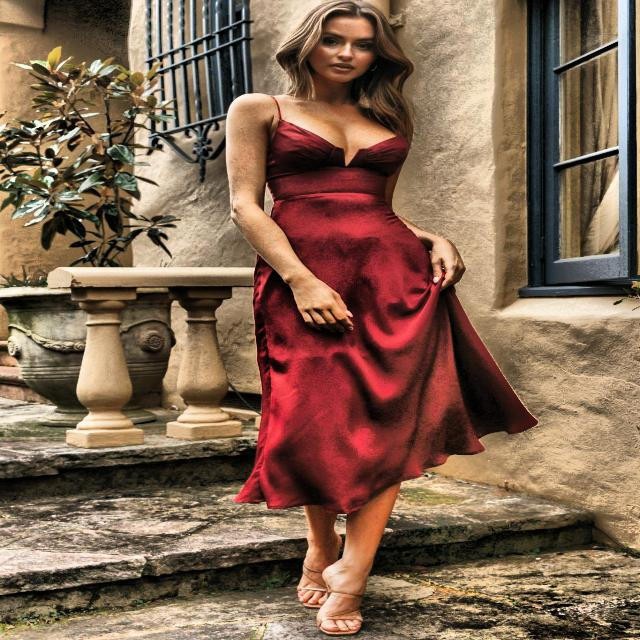Corporate_Gown: (195, 92, 469, 640)
